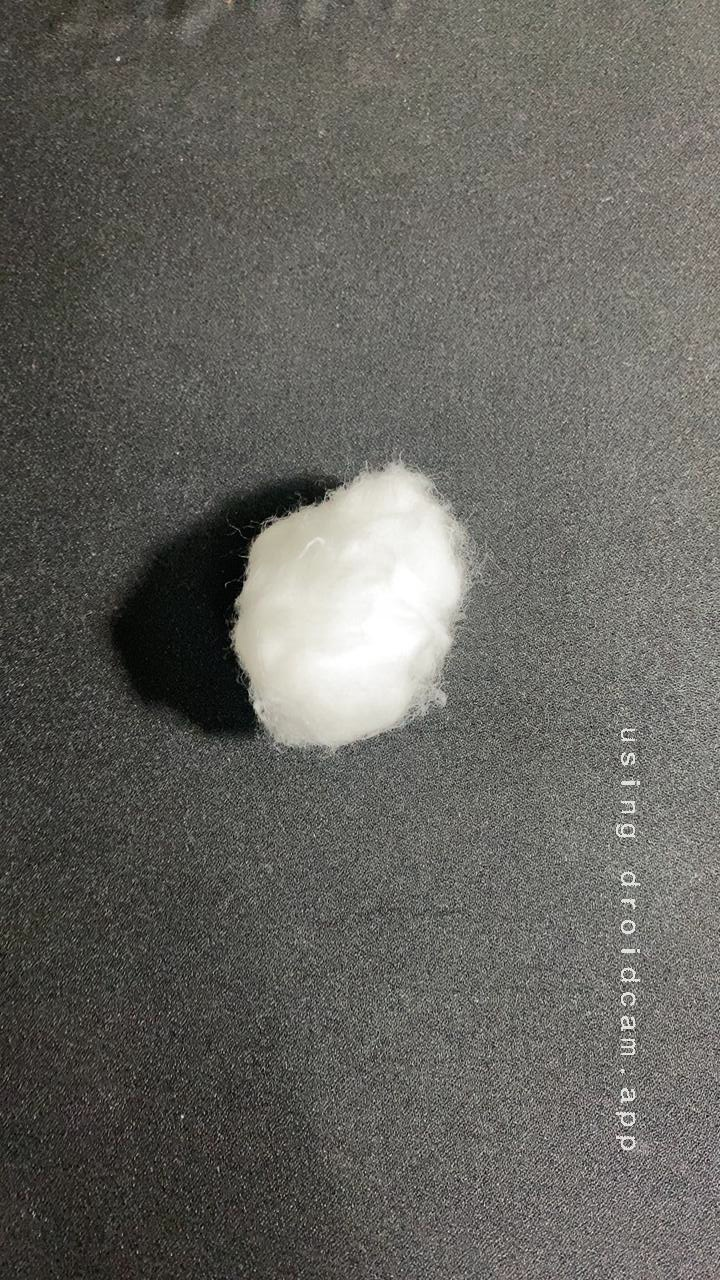cotton: (198, 443, 502, 766)
